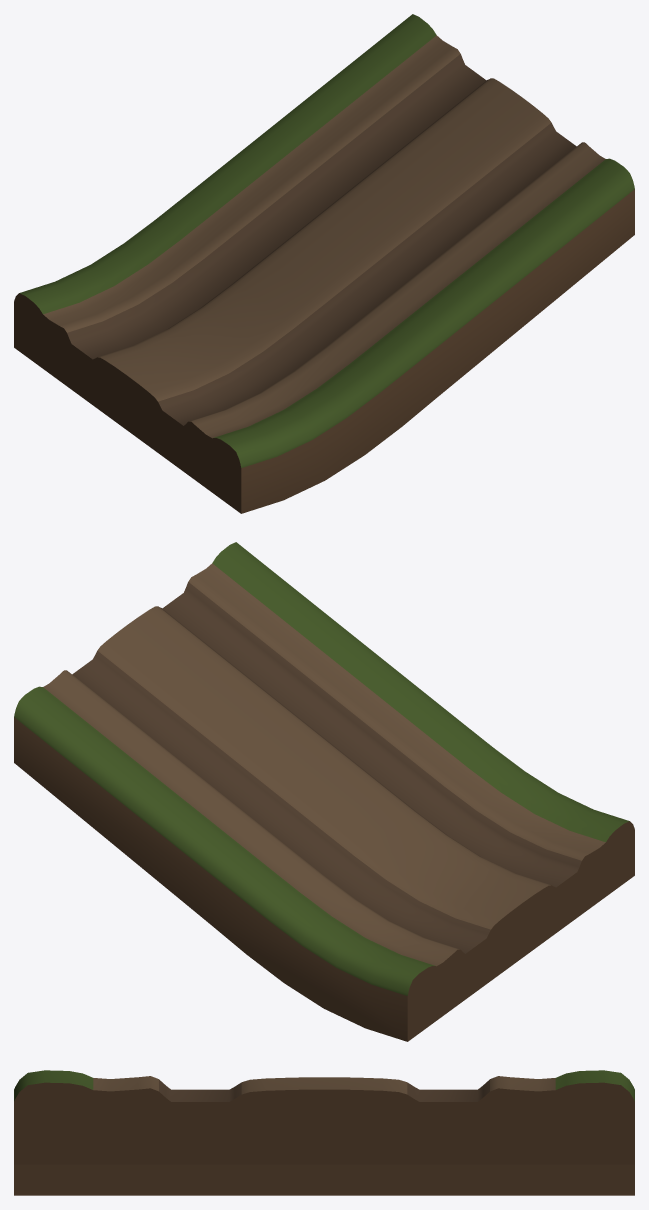
3 renders of one model, top to bottom at view 1: azimuth 30°, elevation 25°; view 2: azimuth 150°, elevation 25°; view 3: azimuth 270°, elevation 25°, orthographic. The views are drawn at different scales.
Visible parts, largest first — view 1: d2o; view 2: d2o; view 3: d2o.
Boxes of the visible parts, x1=… form: d2o: x1=14, y1=14, x2=634, y2=513; d2o: x1=14, y1=542, x2=634, y2=1041; d2o: x1=14, y1=1070, x2=634, y2=1195.
Size of the model in its own units: 9 by 5.31 by 9.
